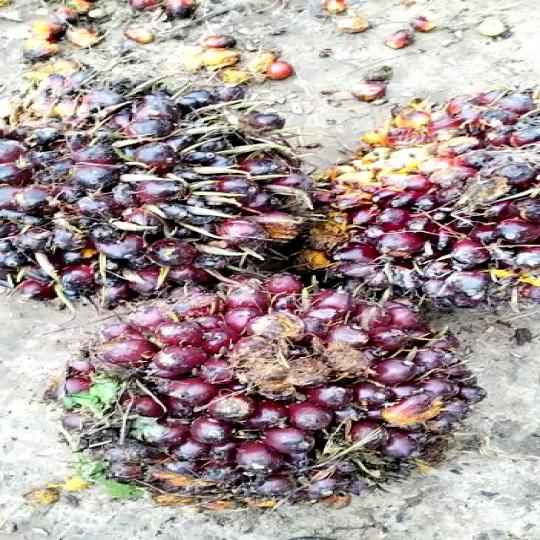kurang masak: (62, 285, 473, 505), (0, 63, 303, 319), (320, 88, 540, 308)
